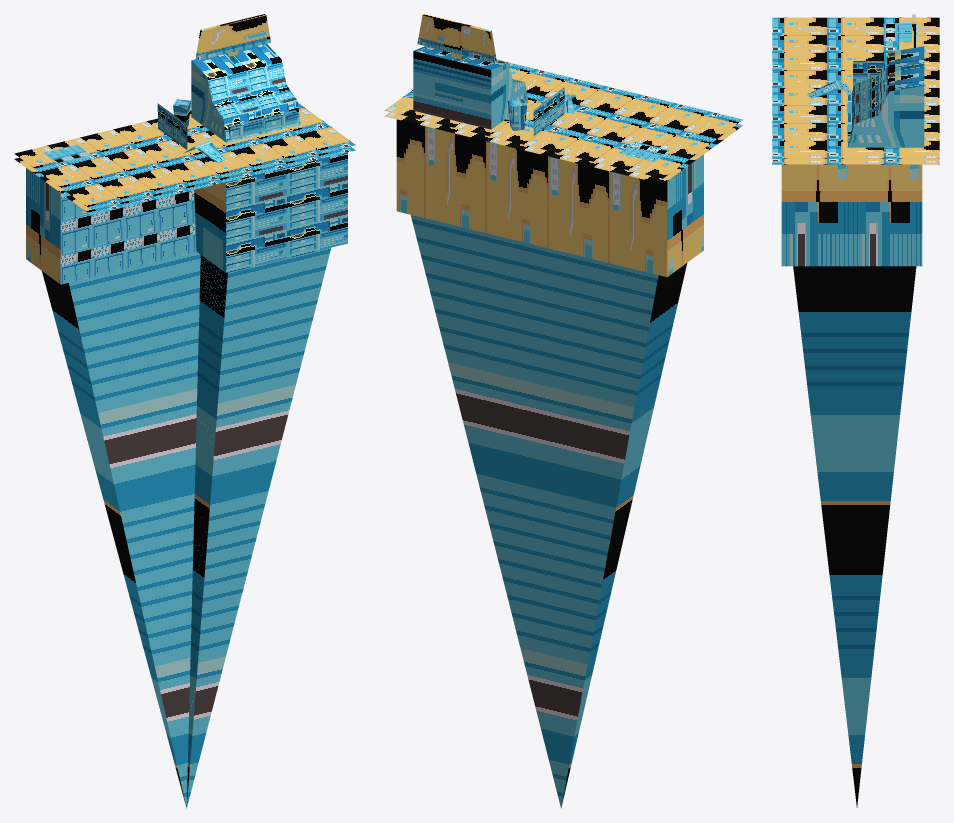
File: 3895kg3_shp17.gltf
3 renders of one model, left to right at view 1: azimuth 30°, elevation 25°; view 2: azimuth 150°, elevation 25°; view 3: azimuth 270°, elevation 25°, orthographic. The views are drawn at different scales.
Parts seen in each view (by area): view 1: 3895kg3_shp17; view 2: 3895kg3_shp17; view 3: 3895kg3_shp17.
Part boxes in pixels (x1,y1,x2,y2): 3895kg3_shp17: (14, 14, 355, 808); 3895kg3_shp17: (385, 14, 742, 808); 3895kg3_shp17: (772, 14, 939, 807).
Size of the model in its own units: 1.8 by 4.86 by 0.9014.
Materials: 3 (3 with a texture image).
